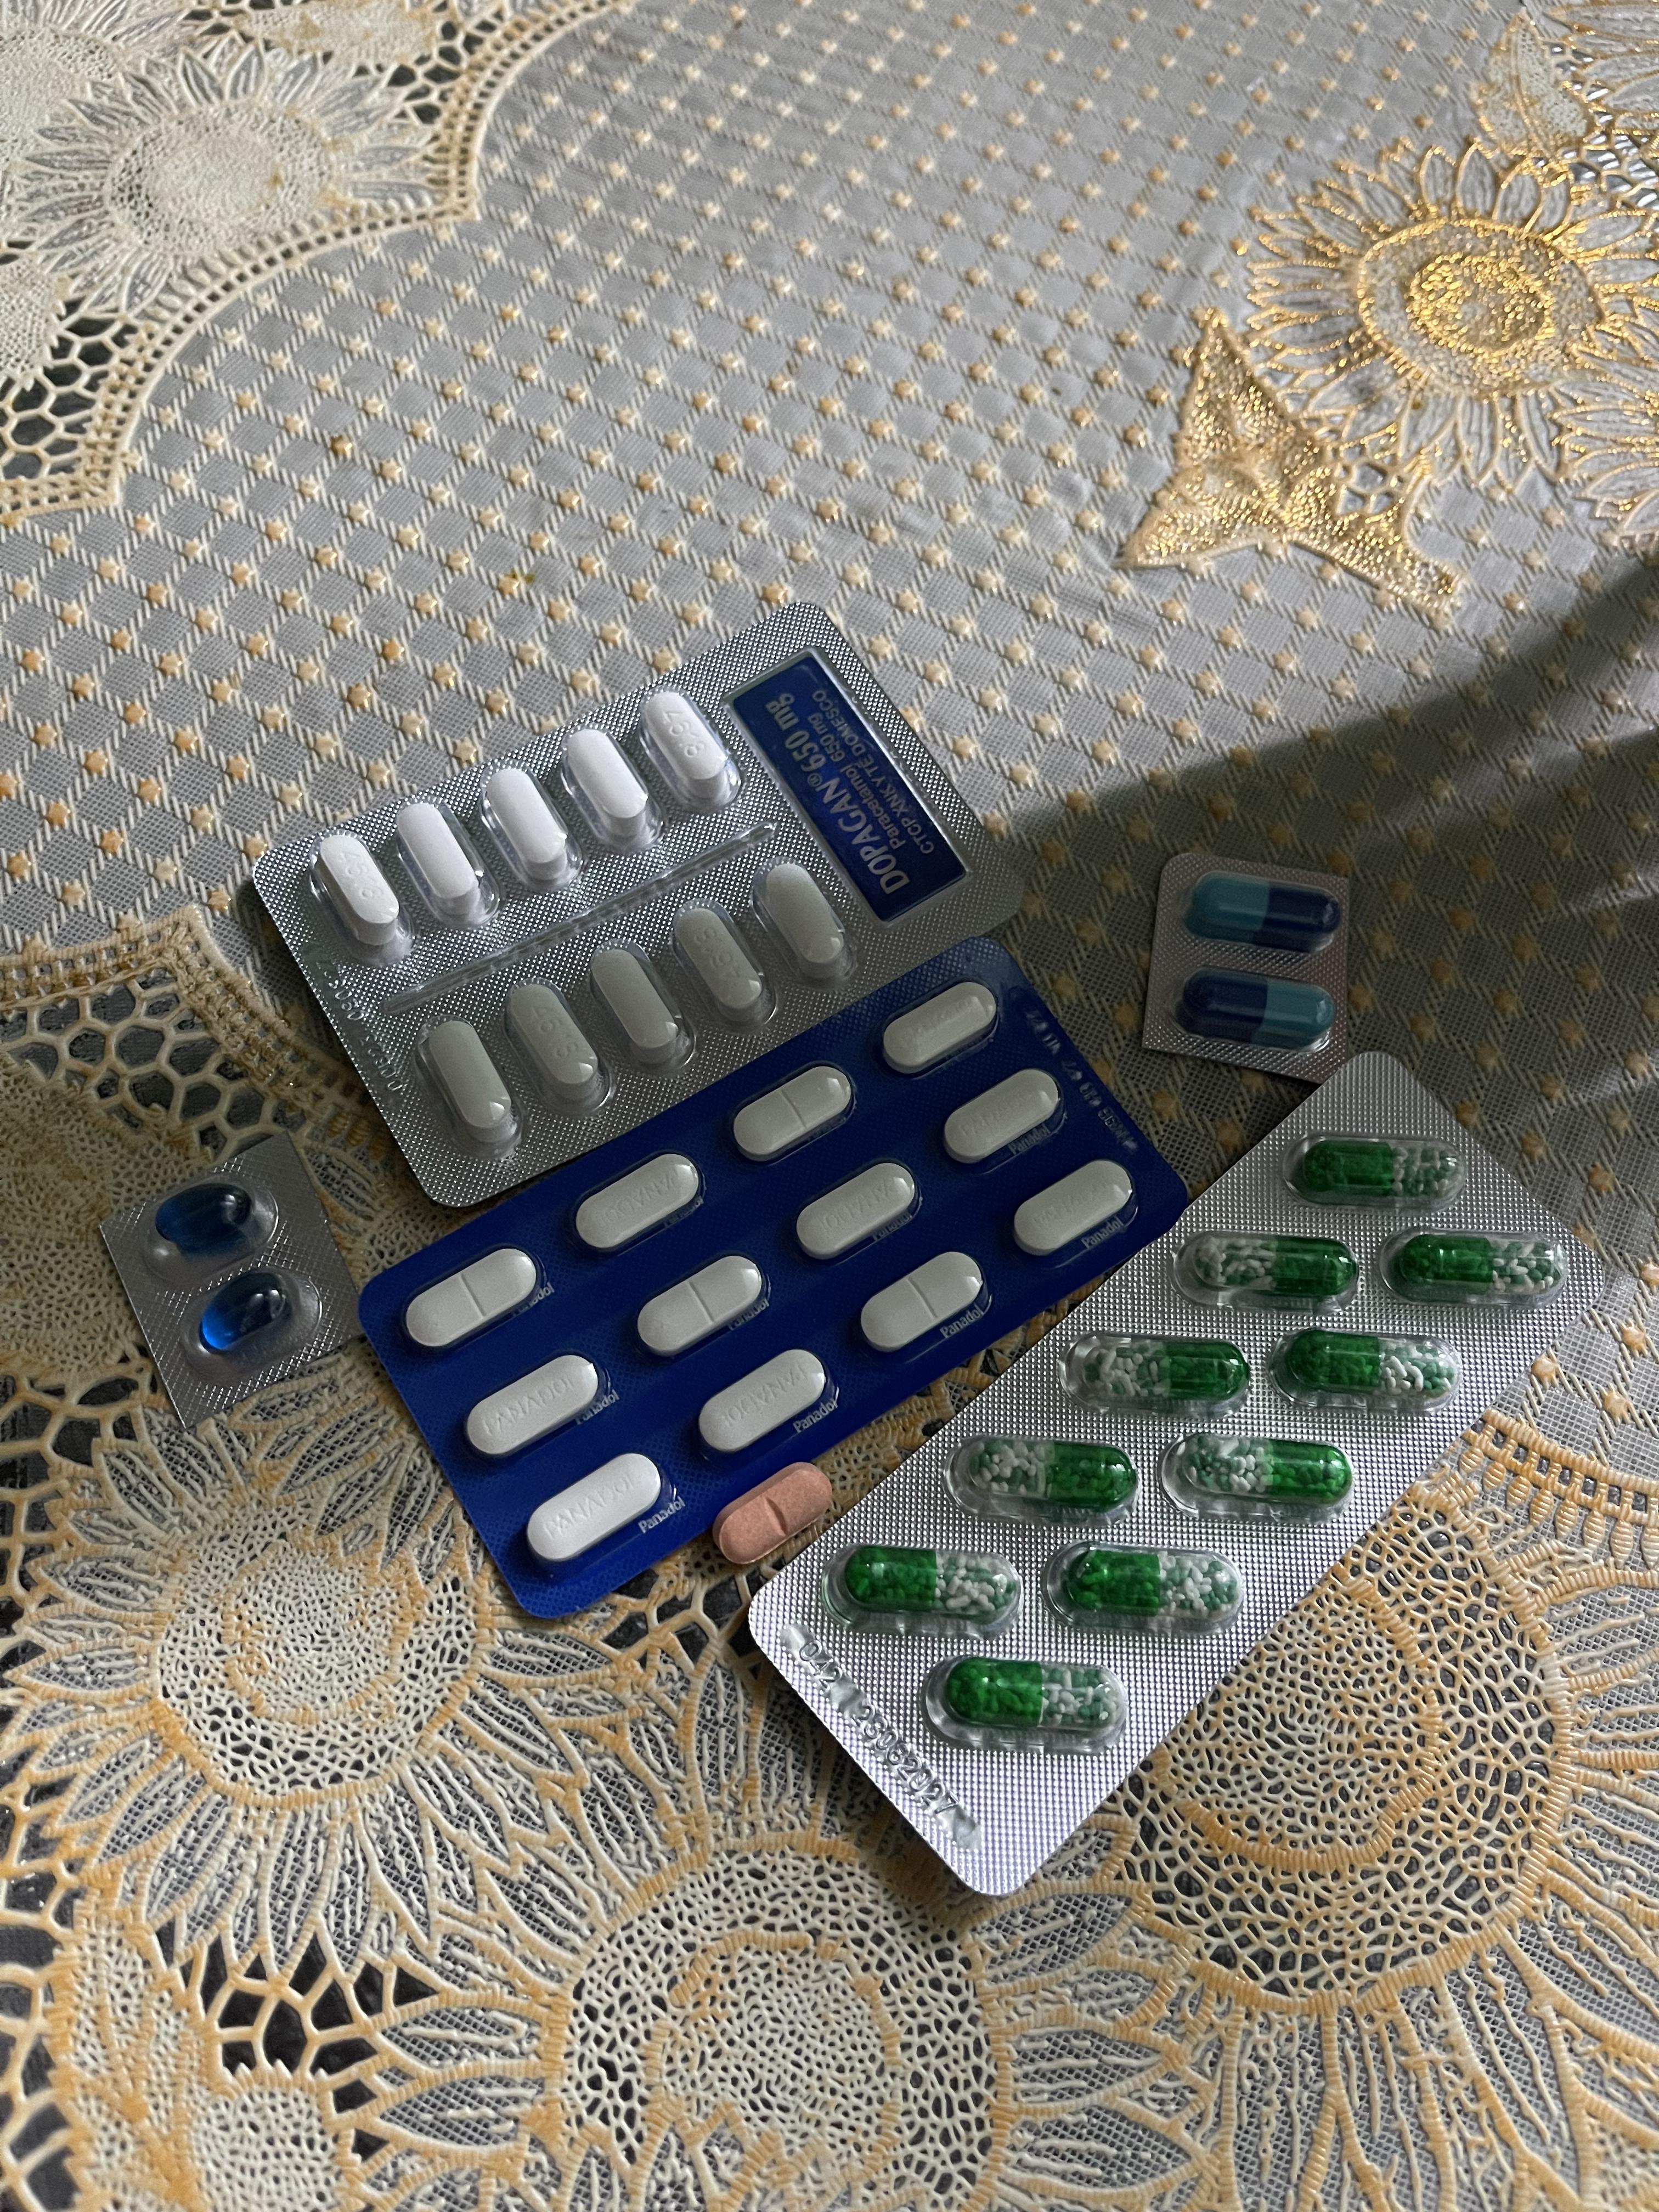Lincomyxin_500mg: (153, 1179, 267, 1259), (199, 1271, 296, 1352)
Loratadine_10mg: (713, 1460, 831, 1562)
Paracetamol_350mg: (526, 1456, 666, 1564), (467, 1353, 603, 1461), (404, 1245, 535, 1350), (699, 1352, 830, 1456), (640, 1254, 767, 1357), (572, 1153, 701, 1254), (861, 1251, 986, 1352), (1011, 1158, 1134, 1256), (939, 1068, 1063, 1165), (732, 1062, 854, 1160), (795, 1162, 915, 1259), (880, 979, 1000, 1075)
Paracetamol_500mg: (415, 1015, 519, 1158), (669, 902, 775, 1033), (504, 982, 608, 1115), (753, 860, 857, 989), (587, 941, 688, 1071), (641, 691, 746, 817), (390, 799, 490, 927), (481, 766, 579, 890), (312, 831, 410, 951), (565, 726, 657, 841)
Paracetamol_650mg: (927, 1655, 1129, 1754), (824, 1538, 1016, 1635), (950, 1432, 1136, 1521), (1047, 1543, 1227, 1632), (1063, 1334, 1237, 1416), (1279, 1327, 1453, 1400), (1389, 1235, 1560, 1298), (1185, 1440, 1349, 1501), (1295, 1141, 1455, 1200), (1201, 1242, 1352, 1299)
pill: (1185, 874, 1342, 956), (1180, 974, 1333, 1049)
